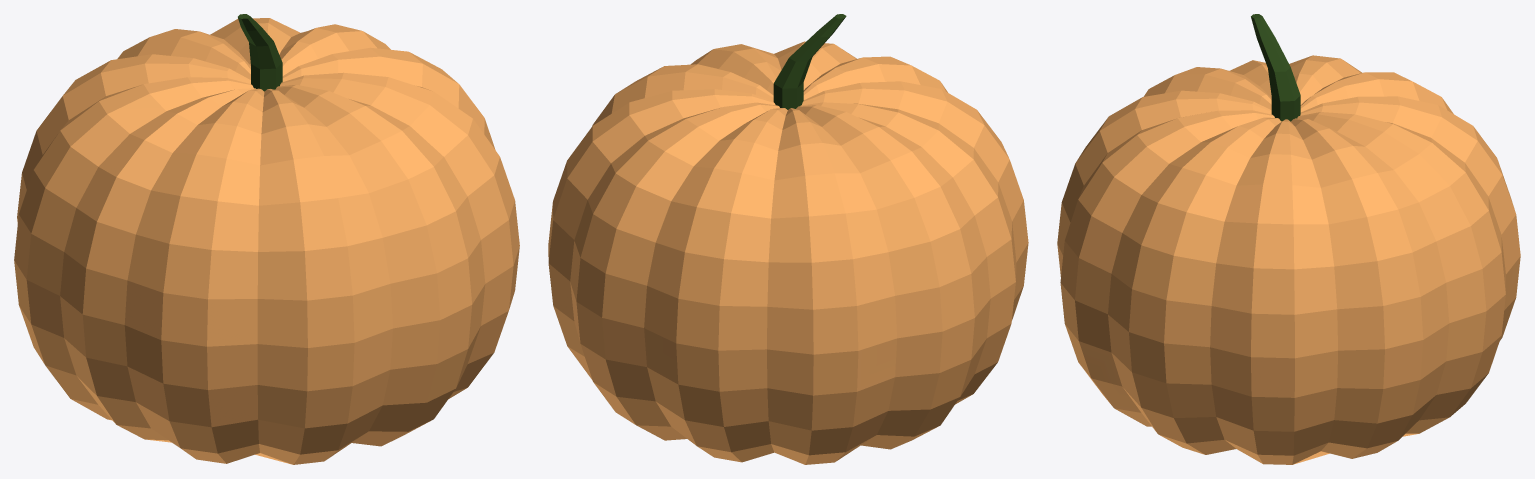
File: Pumpkin.glb
The picture shows the model from 3 angles, left to right: view 1: azimuth 30°, elevation 25°; view 2: azimuth 150°, elevation 25°; view 3: azimuth 270°, elevation 25°; orthographic projection. The views are drawn at different scales.
Parts seen in each view (by area): view 1: Pumpkin; view 2: Pumpkin; view 3: Pumpkin.
Boxes of the visible parts, x1=… form: Pumpkin: x1=14, y1=14, x2=519, y2=464; Pumpkin: x1=548, y1=14, x2=1028, y2=464; Pumpkin: x1=1057, y1=14, x2=1520, y2=464.
Size of the model in its own units: 0.6491 by 0.566 by 0.649.
